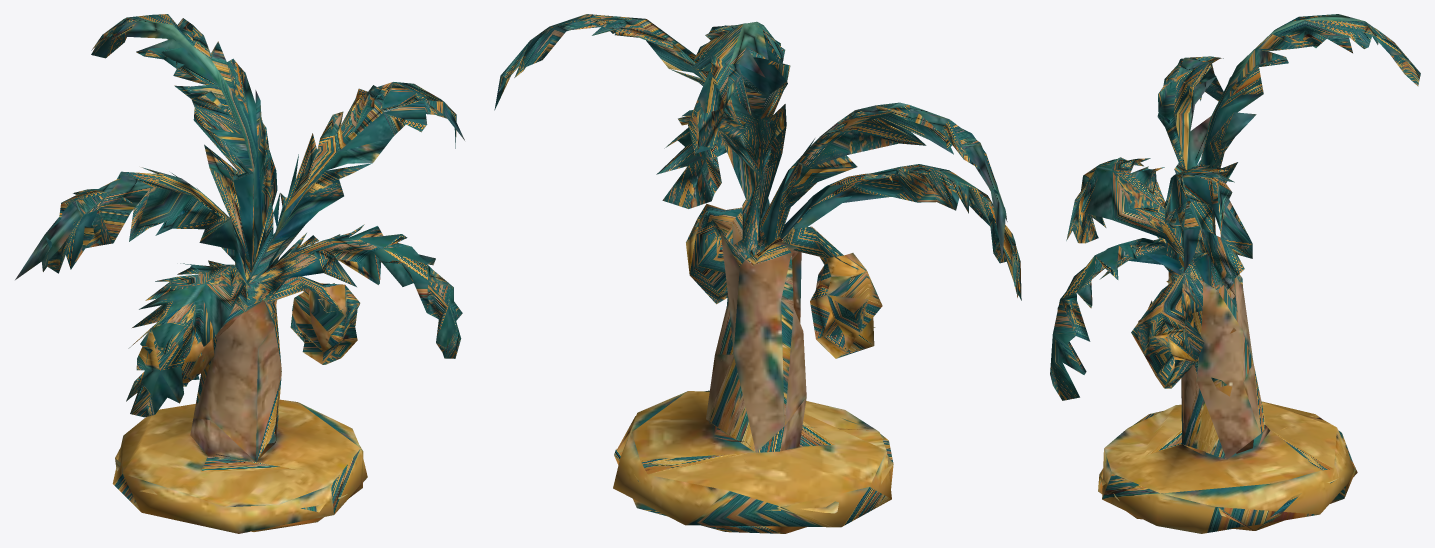
The model's file is palm-lite.glb.
3 renders of one model, left to right at view 1: azimuth 30°, elevation 25°; view 2: azimuth 150°, elevation 25°; view 3: azimuth 270°, elevation 25°, orthographic. The views are drawn at different scales.
Parts seen in each view (by area): view 1: geometry_0; view 2: geometry_0; view 3: geometry_0.
Part boxes in pixels (box(x1,y1,x2,y2)): geometry_0: box(15, 14, 464, 533); geometry_0: box(494, 14, 1021, 533); geometry_0: box(1050, 14, 1420, 533).
Bounding box in the file's own units: 0.9182 × 0.8683 × 0.6448.
1 material, 1 textured.
